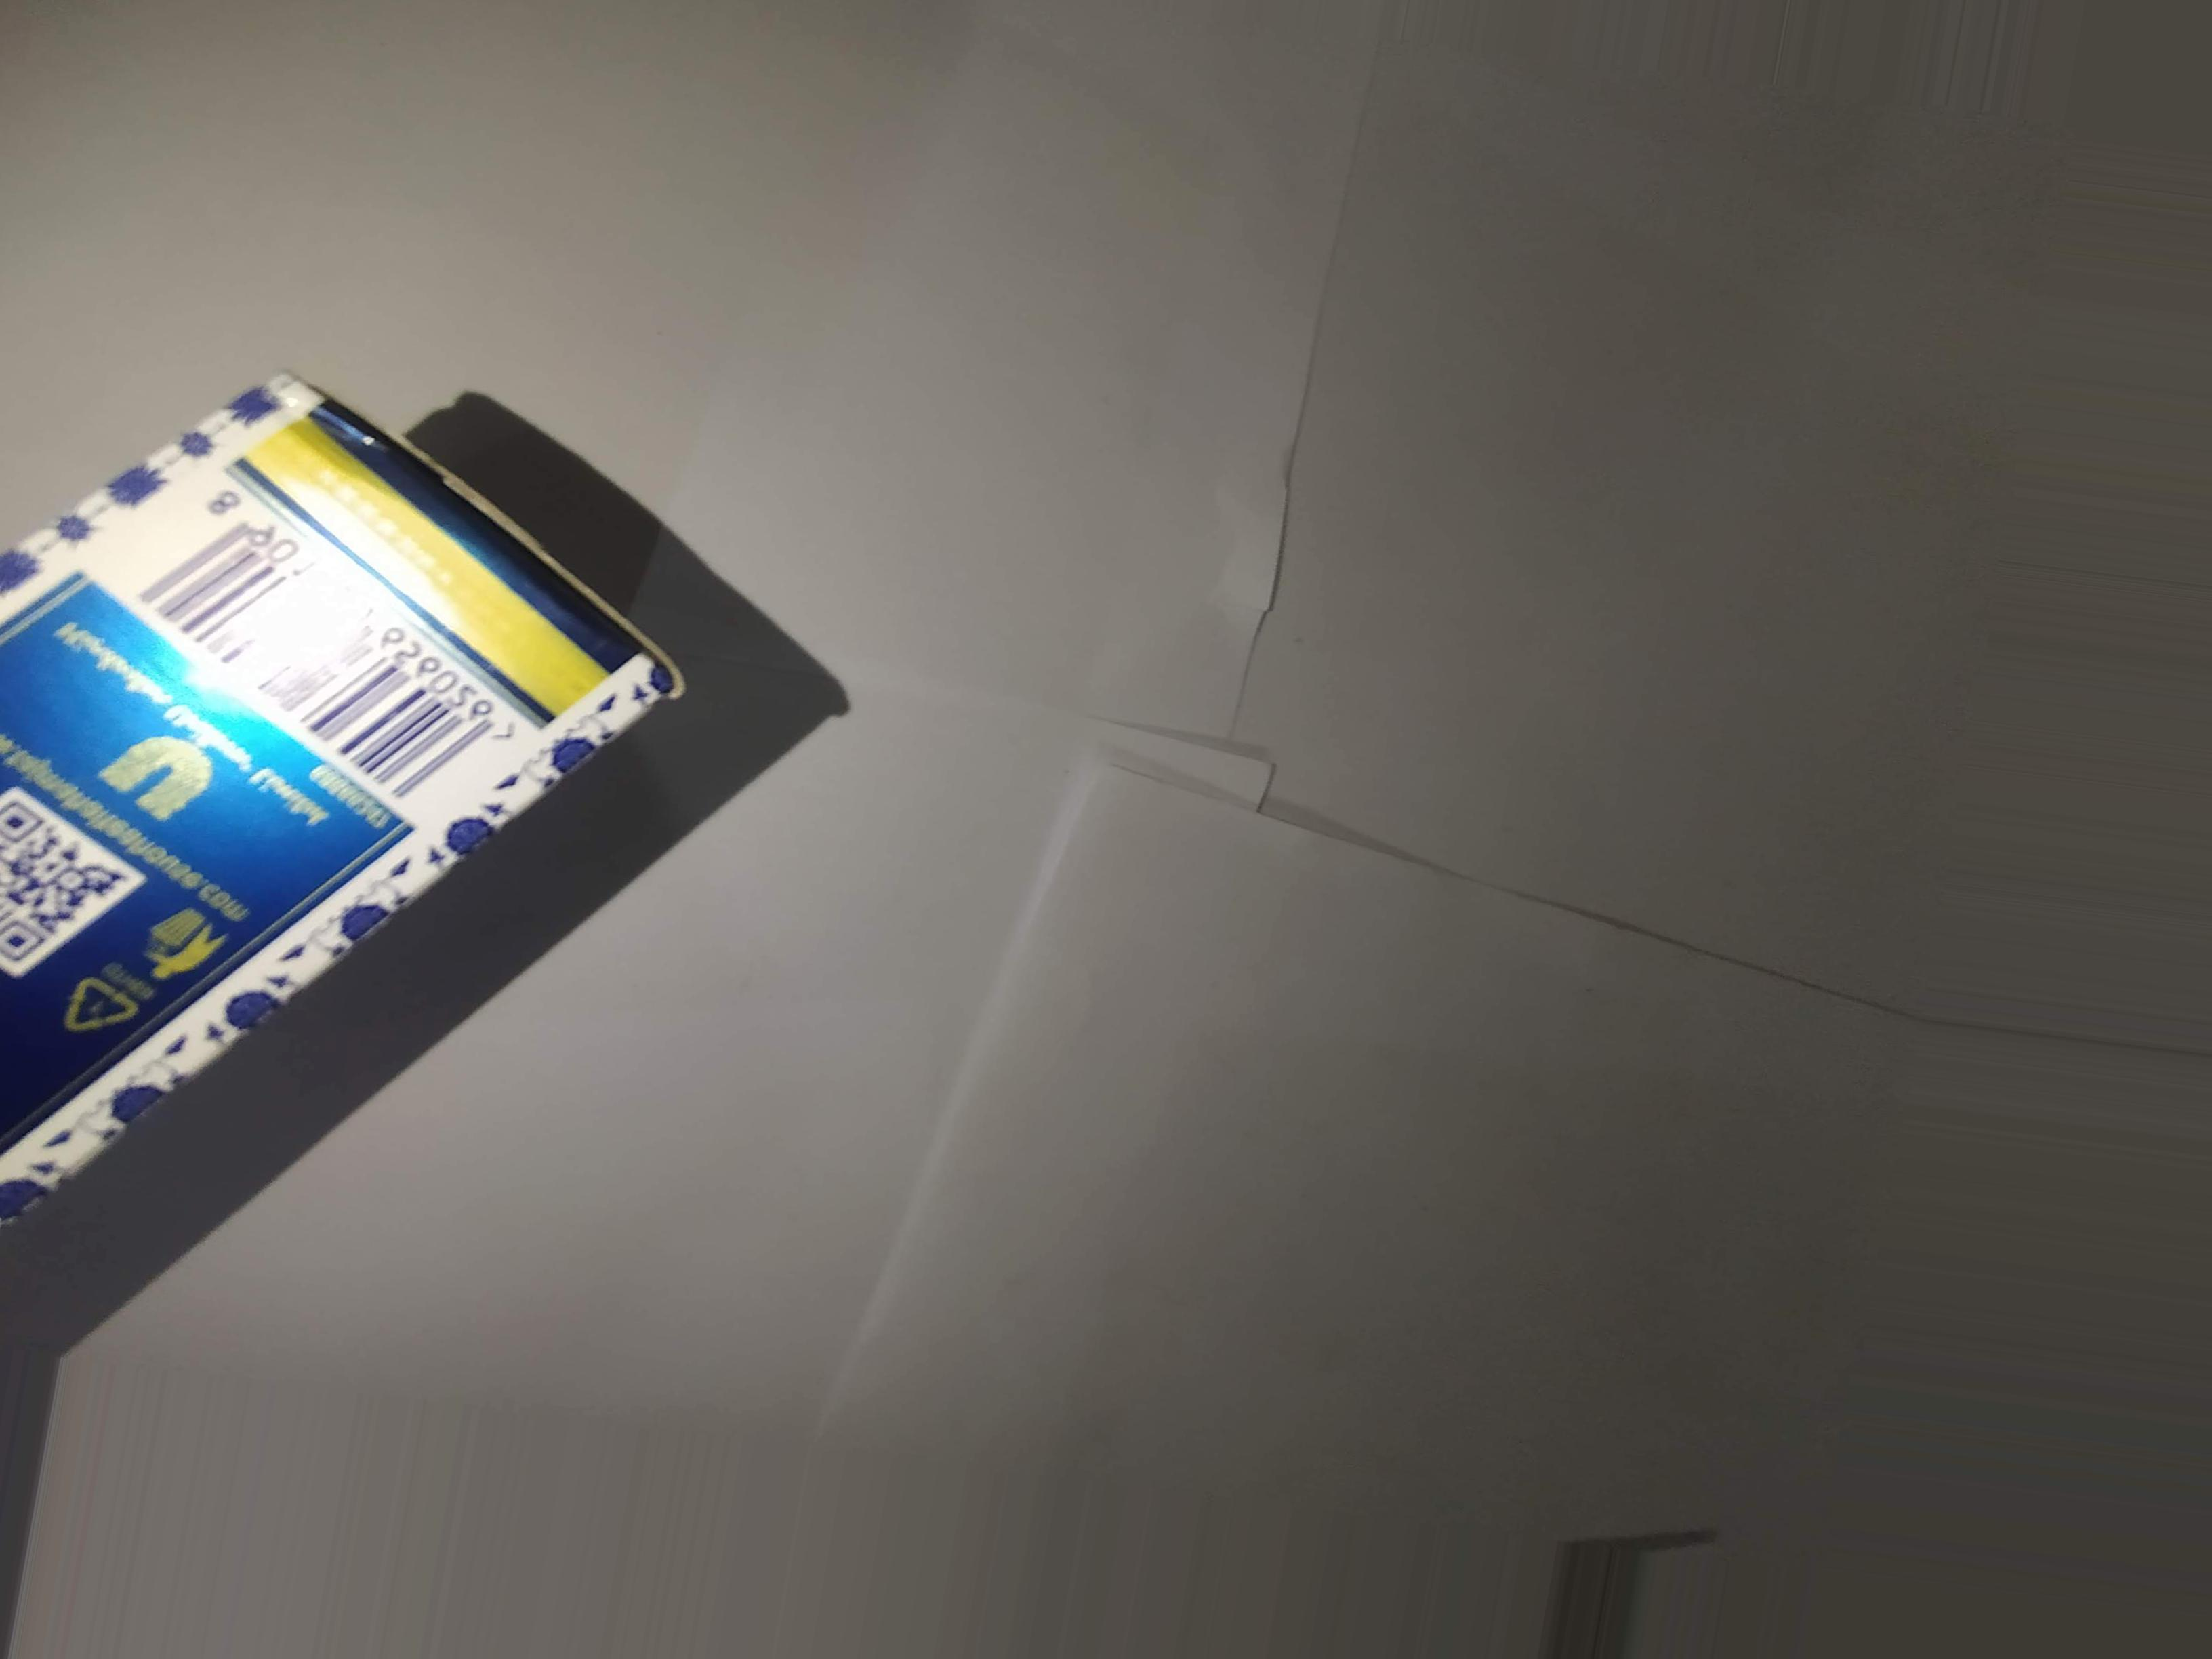Bar_code: (153, 471, 549, 803)
QR_code: (0, 777, 162, 997)
